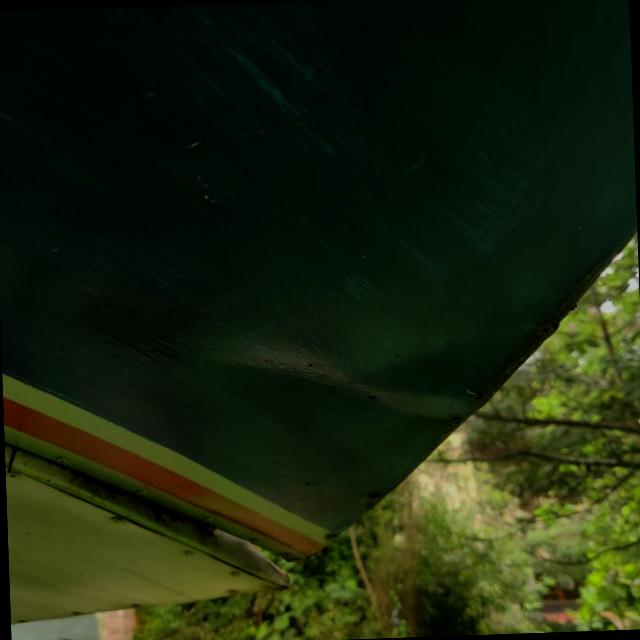dent: (183, 266, 514, 508)
